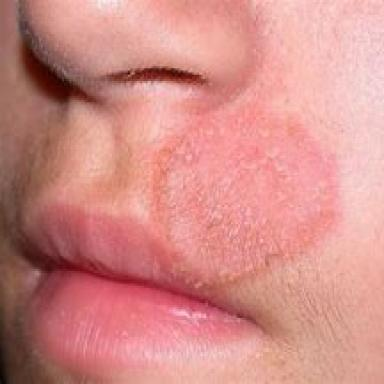Tinea-Corporis: (153, 103, 334, 289)
